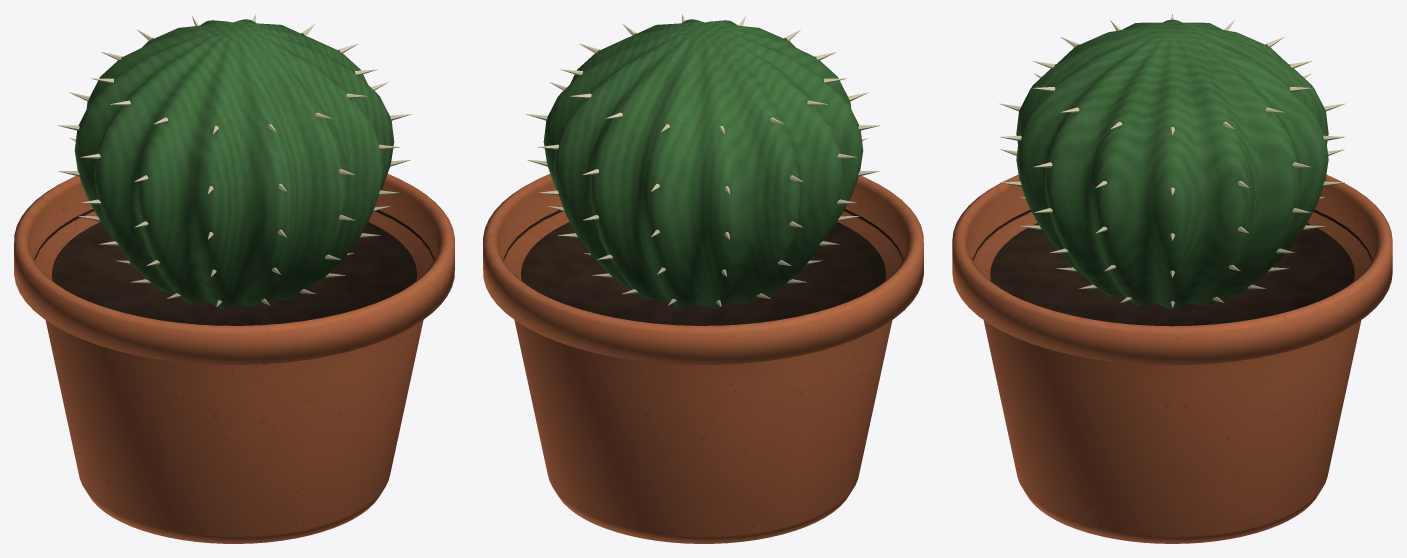
File: barrel-cactus.glb
3 views of the same model, side by side, from view 1: azimuth 30°, elevation 25°; view 2: azimuth 150°, elevation 25°; view 3: azimuth 270°, elevation 25° (orthographic).
Visible parts, largest first — view 1: terracotta, cactus_skin, soil, spine; view 2: terracotta, cactus_skin, soil, spine; view 3: terracotta, cactus_skin, soil, spine.
Boxes of the visible parts, x1,y1,x2,y2 form: terracotta: [14, 174, 454, 543]; cactus_skin: [74, 19, 394, 308]; soil: [34, 209, 434, 325]; spine: [57, 14, 411, 306]; terracotta: [483, 174, 923, 543]; cactus_skin: [543, 19, 863, 308]; soil: [503, 209, 903, 325]; spine: [526, 14, 880, 306]; terracotta: [952, 174, 1392, 543]; cactus_skin: [1016, 19, 1328, 309]; soil: [972, 209, 1372, 326]; spine: [999, 14, 1345, 307].
Bounding box in the file's own units: 0.2332 × 0.2618 × 0.2332.
Materials: 4 (4 with a texture image).
